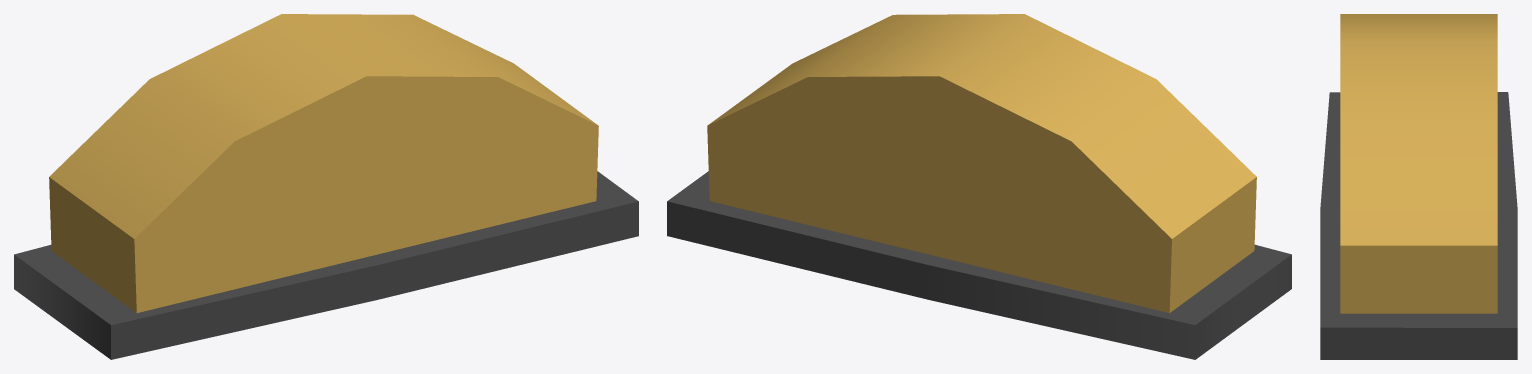
The model's file is TaxiSign.fbx.
3 views of the same model, side by side, from view 1: azimuth 30°, elevation 25°; view 2: azimuth 150°, elevation 25°; view 3: azimuth 270°, elevation 25° (orthographic). The views are drawn at different scales.
Parts seen in each view (by area): view 1: Taxi Sign; view 2: Taxi Sign; view 3: Taxi Sign.
Part boxes in pixels (x1,y1,x2,y2): Taxi Sign: (14,14,638,359); Taxi Sign: (667,14,1291,359); Taxi Sign: (1320,14,1517,359).
Size of the model in its own units: 62.35 by 24.56 by 22.07.
